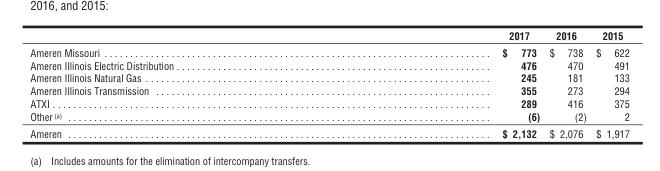table: (29, 28, 628, 139)
table column: (29, 28, 337, 139), (337, 28, 544, 139), (544, 28, 590, 139), (590, 28, 628, 139)
table column header: (29, 28, 628, 43)
table row: (29, 28, 628, 43), (29, 43, 628, 58), (29, 109, 628, 124), (29, 124, 628, 139), (29, 58, 628, 71), (29, 71, 628, 84), (29, 84, 628, 97), (29, 97, 628, 109)
